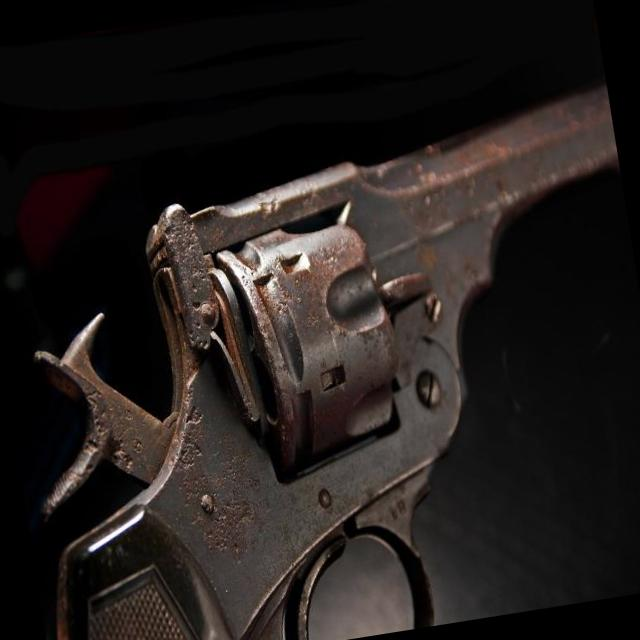Gun: (36, 85, 620, 640)
